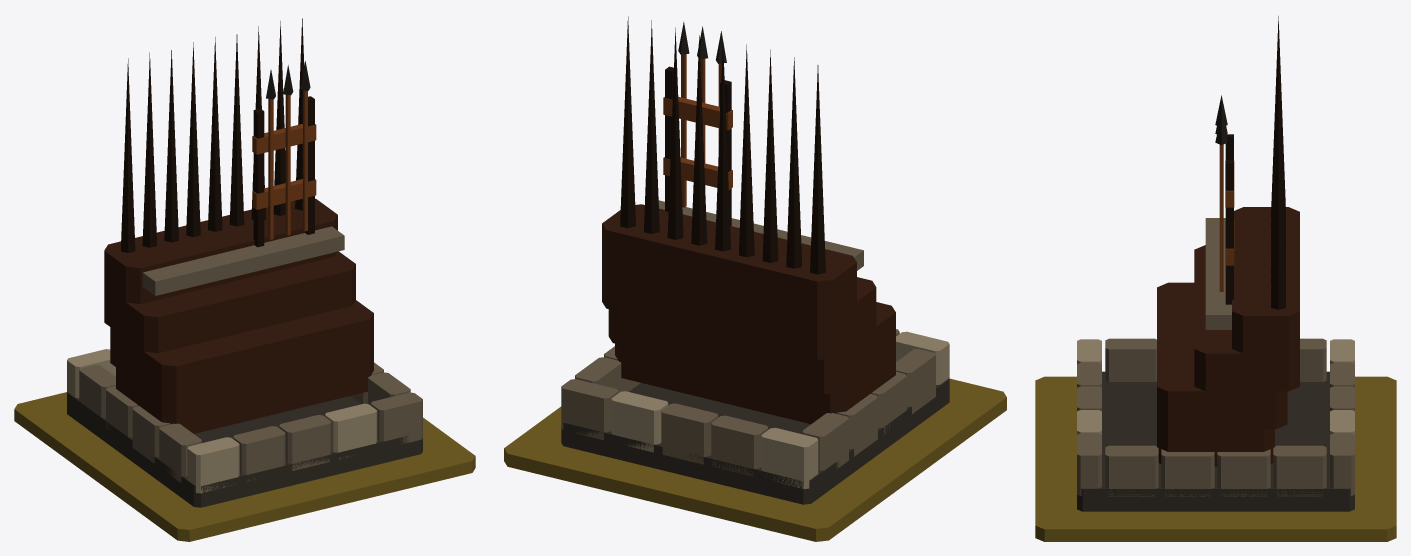
The model's file is rampart_t5.glb.
The picture shows the model from 3 angles, left to right: view 1: azimuth 30°, elevation 25°; view 2: azimuth 150°, elevation 25°; view 3: azimuth 270°, elevation 25°; orthographic projection. The views are drawn at different scales.
Parts seen in each view (by area): view 1: MMR | rampart | T05 Architecture.001, MMR | rampart | Tier 05 Ground.001; view 2: MMR | rampart | T05 Architecture.001, MMR | rampart | Tier 05 Ground.001; view 3: MMR | rampart | T05 Architecture.001, MMR | rampart | Tier 05 Ground.001.
Boxes of the visible parts, x1,y1,x2,y2 form: MMR | rampart | T05 Architecture.001: (67,18,422,507); MMR | rampart | Tier 05 Ground.001: (14,392,475,541); MMR | rampart | T05 Architecture.001: (561,16,949,504); MMR | rampart | Tier 05 Ground.001: (504,378,1006,541); MMR | rampart | T05 Architecture.001: (1077,16,1354,511); MMR | rampart | Tier 05 Ground.001: (1035,376,1396,541).
Size of the model in its own units: 1.3 by 1.61 by 1.3.
1 material, 1 textured.
